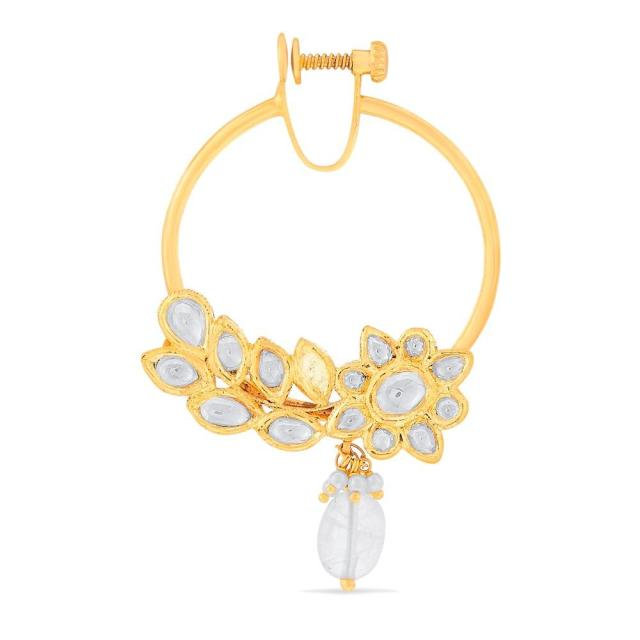missing gem: (297, 344, 330, 398)
